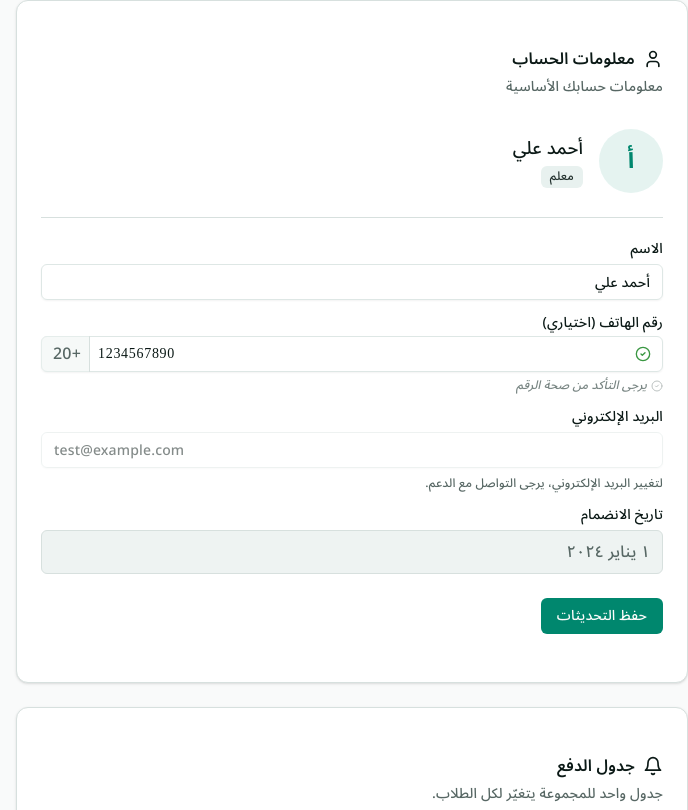
Test: SettingsForm › shows success banner after profile save
Click the button "حفظ التحديثات": (602, 616) [541,598,663,634]
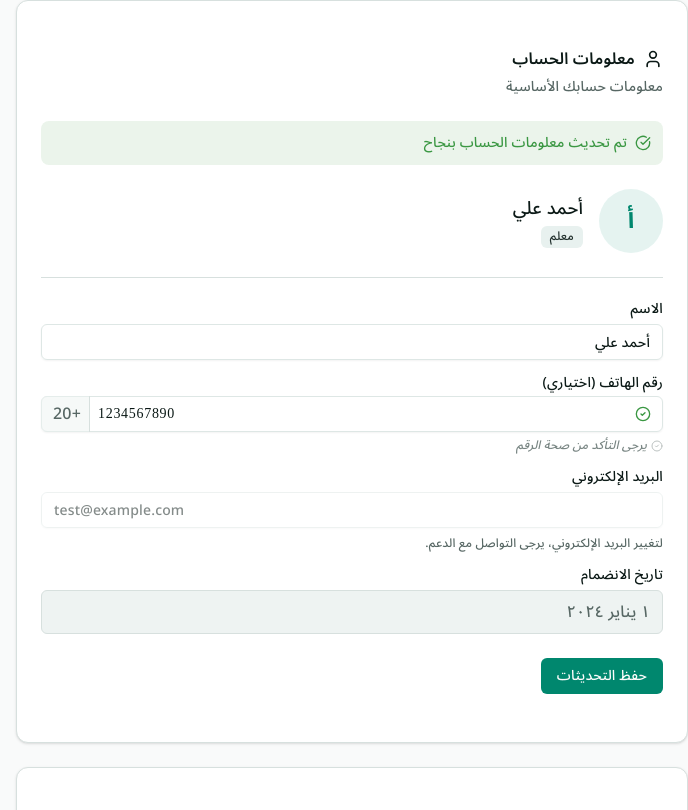
Now the text "تم تحديث معلومات الحساب بنجاح" is shown, box [424,133,627,153]
